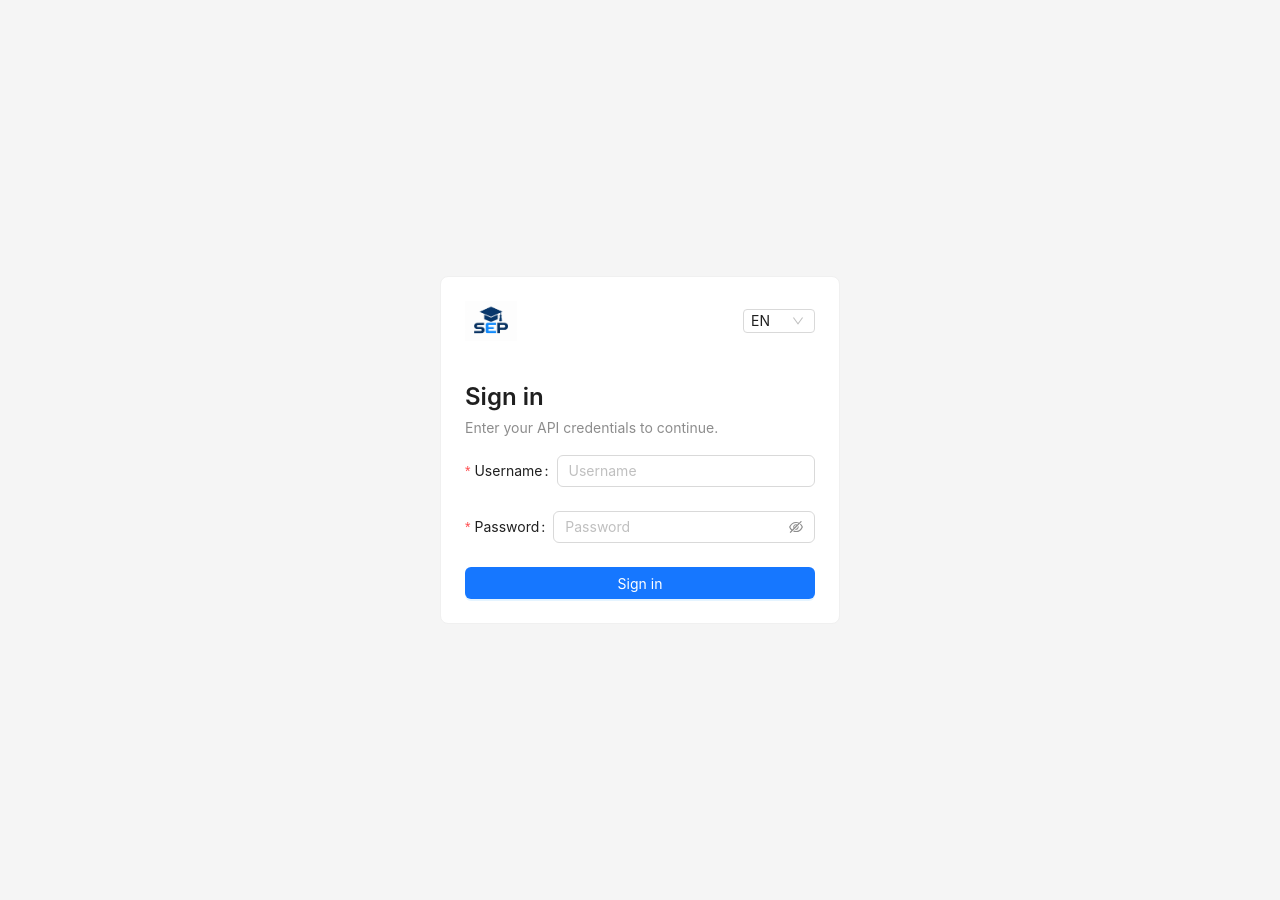
Test case: App auth flow › returns to login after logout and clears credentials
Type "dev" into the field labelled "Username" at (686, 471), box [556,455,815,487]
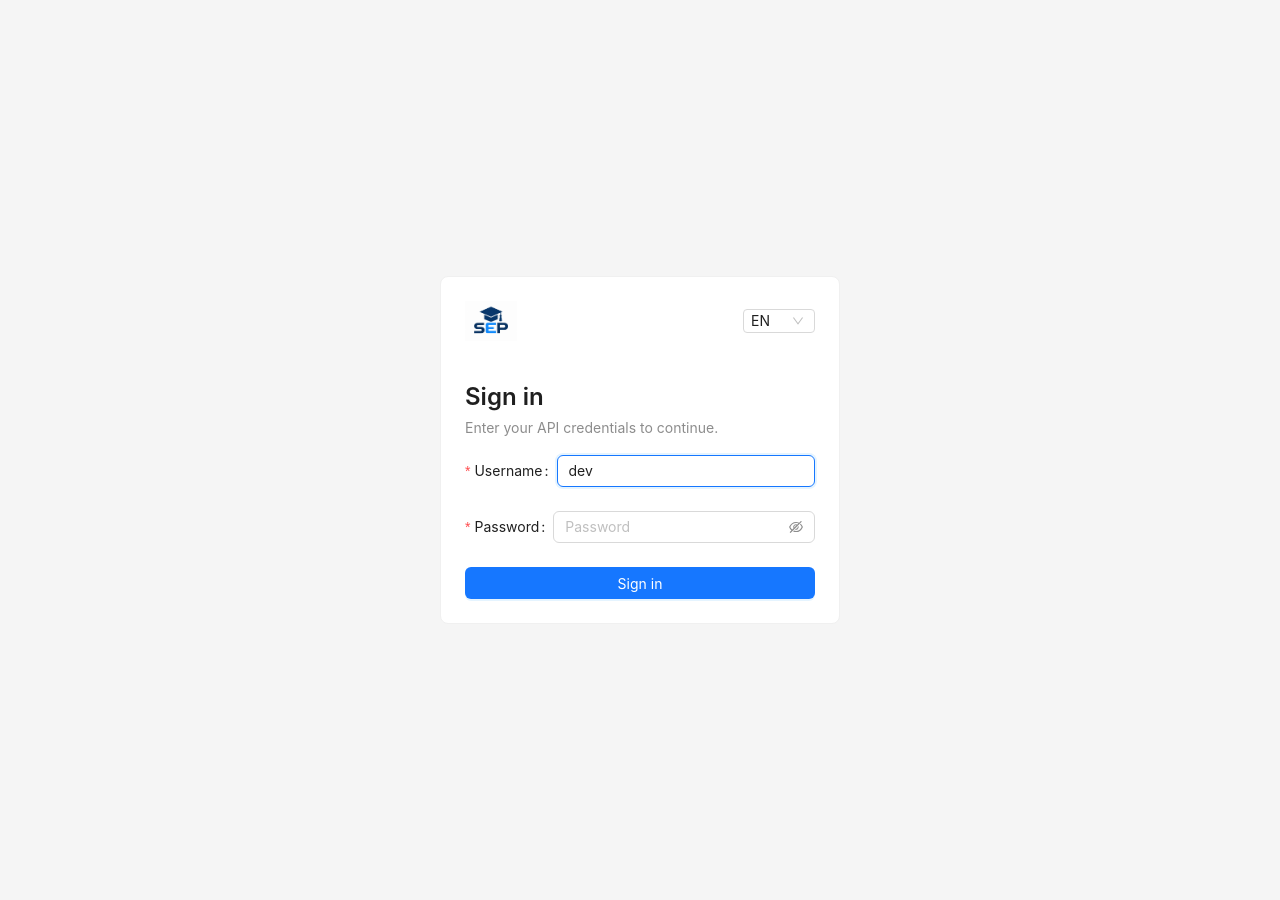
Type "changeme" into the password field labelled "Password" at (675, 527), box [565,516,785,538]
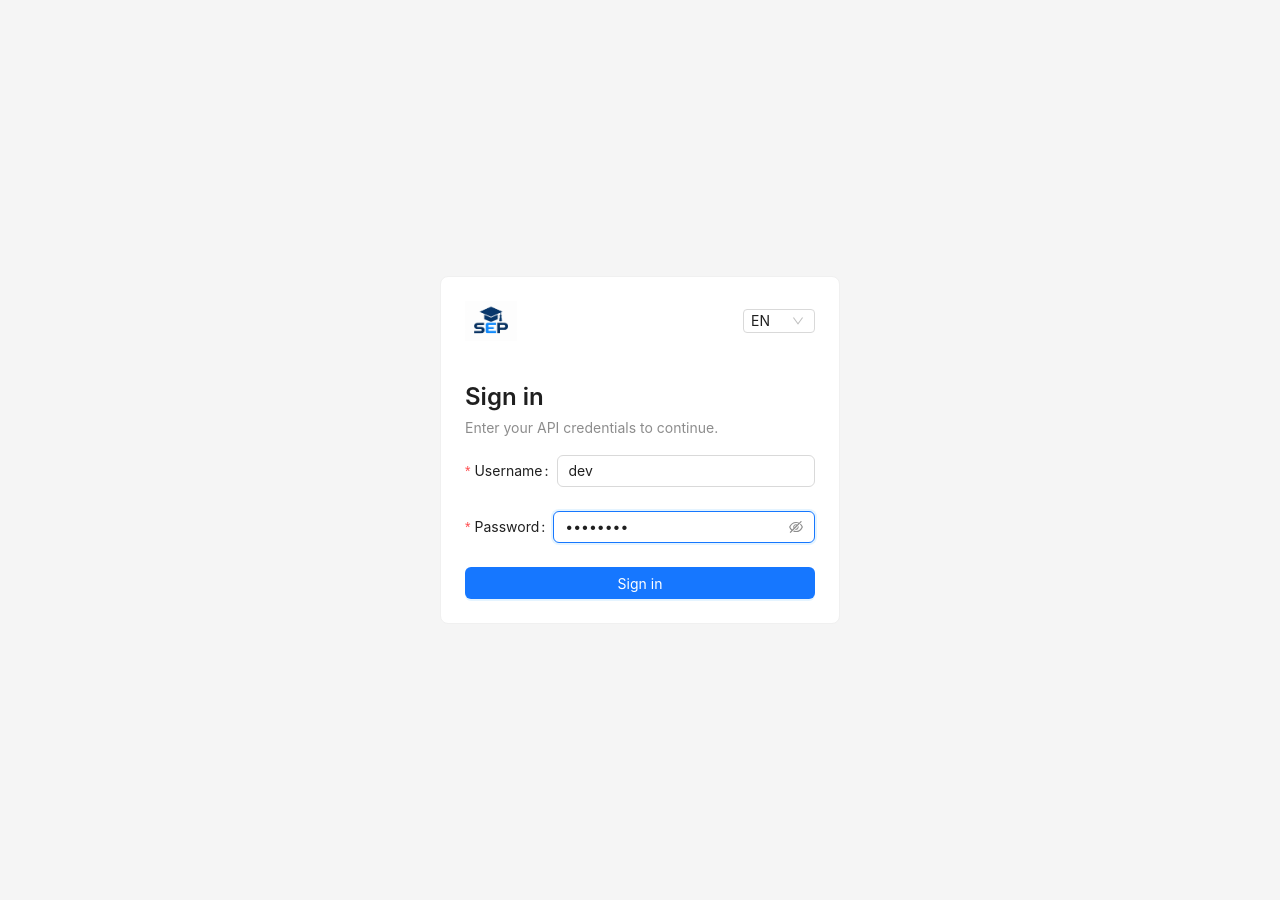
Click the button "Sign in" at (640, 583), box [465,567,815,599]
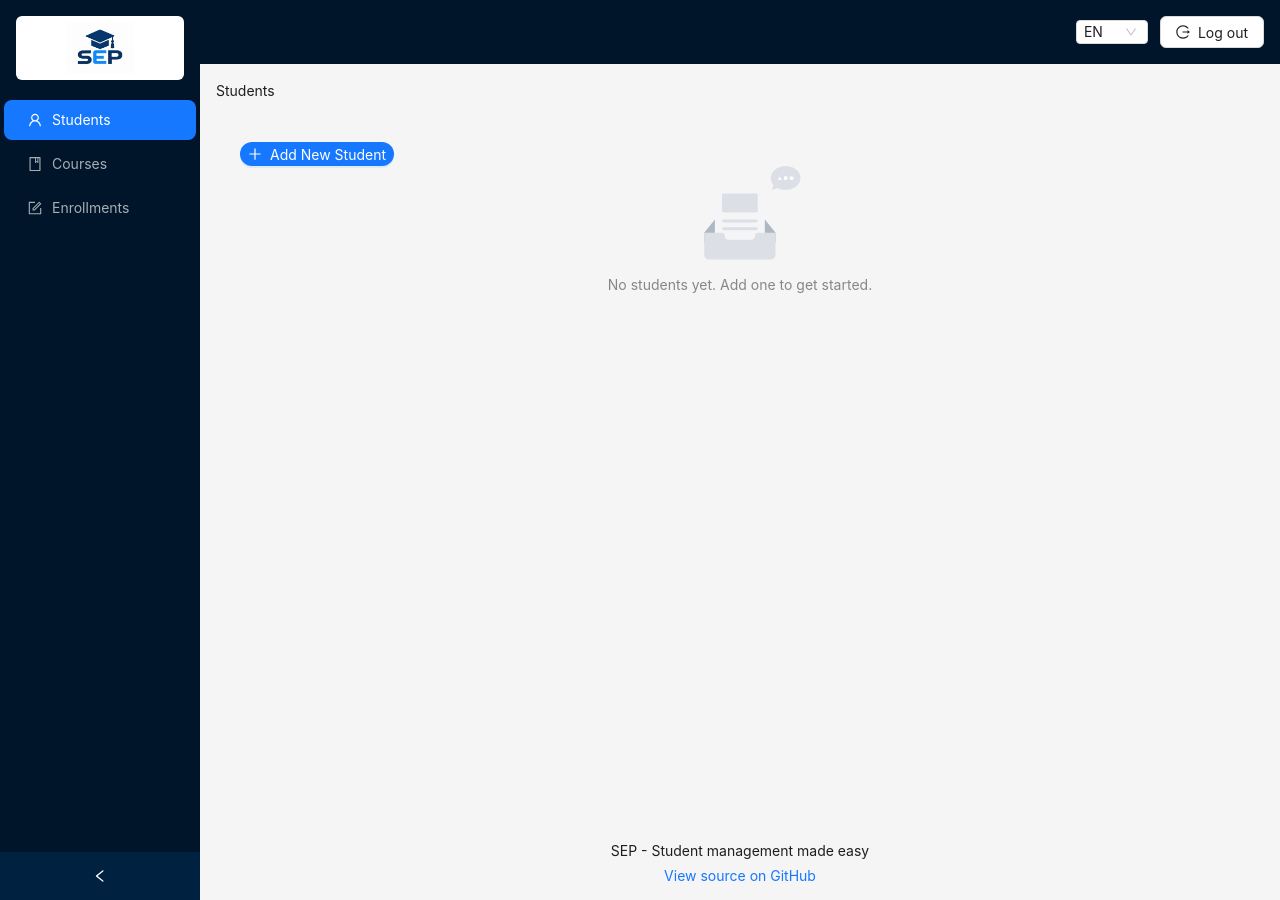
Check: the text "Add New Student" is shown, box [270,146,386,162]
Click the button "Log out" at (1212, 32), box [1160,16,1264,48]
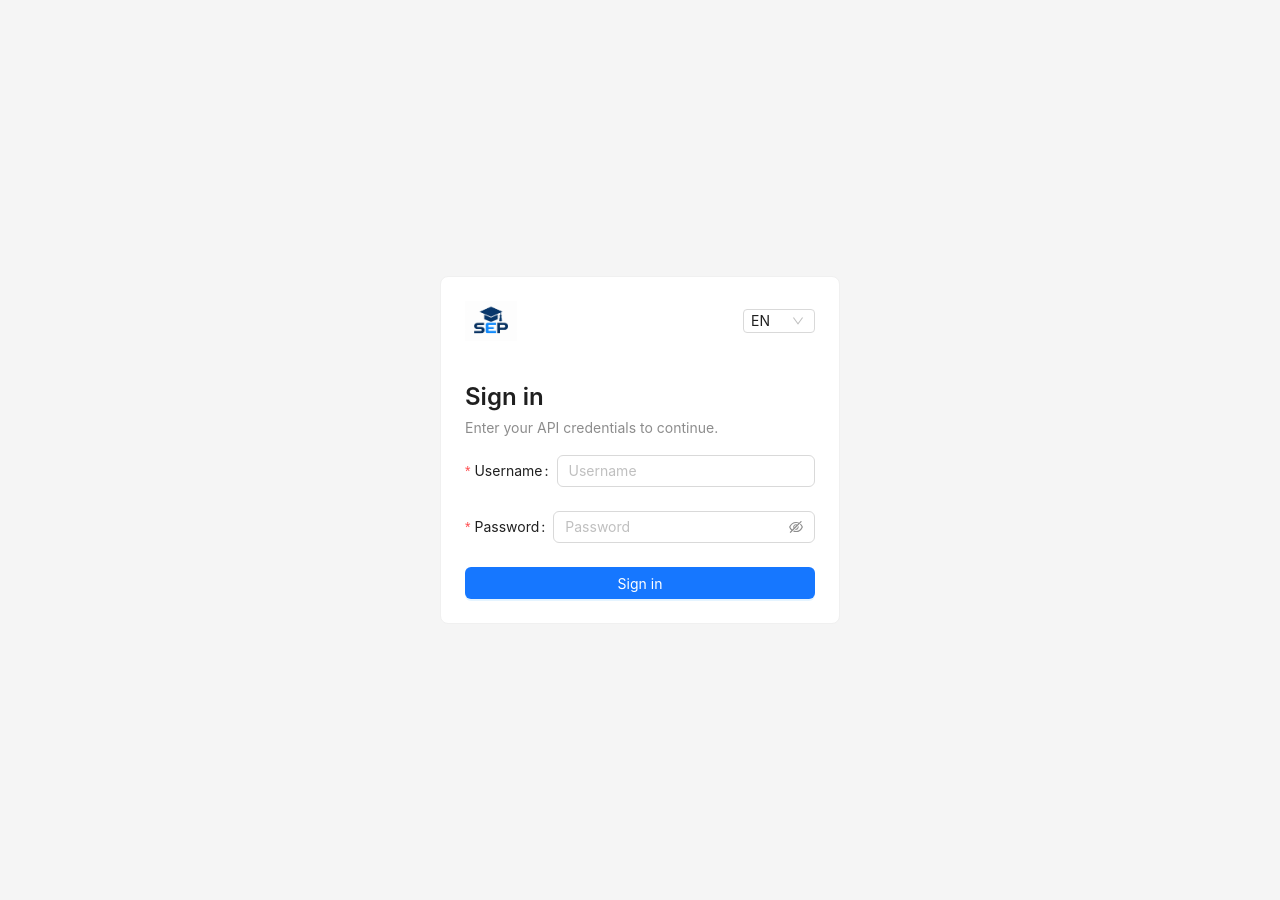
Check: the heading "Sign in" is shown, box [465,382,544,411]
Check: the button "Add New Student" is gone
